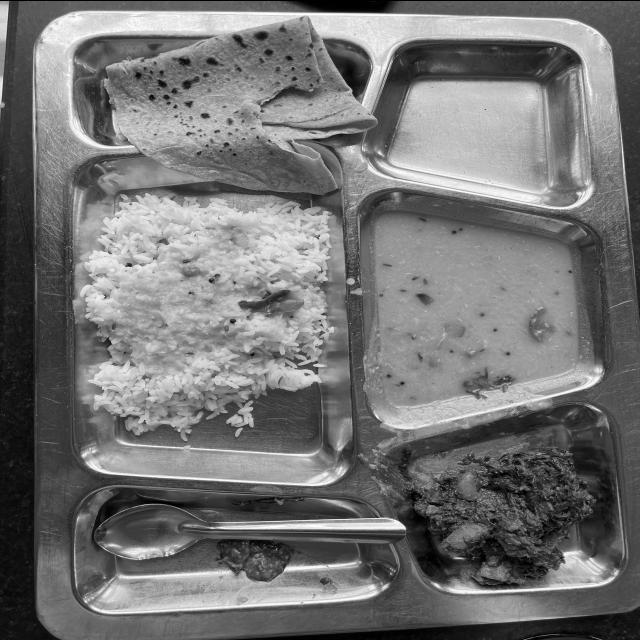70.1- Food Left: (44, 27, 608, 632)
